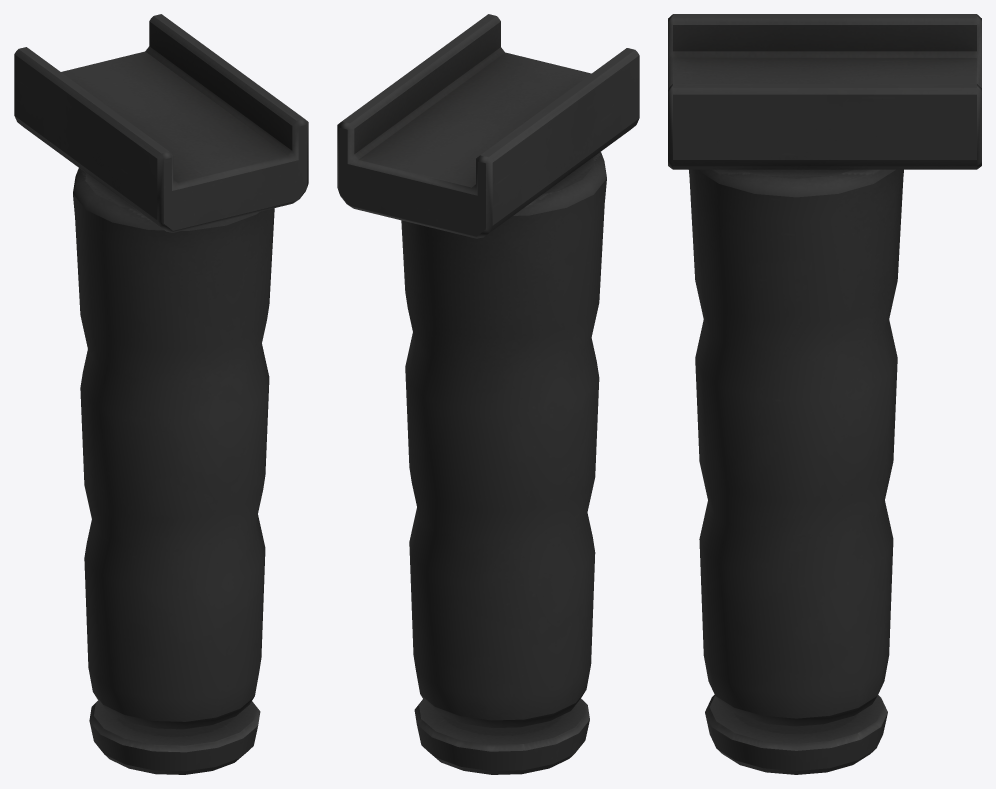
File: foregrip.glb
3 views of the same model, side by side, from view 1: azimuth 30°, elevation 25°; view 2: azimuth 150°, elevation 25°; view 3: azimuth 270°, elevation 25° (orthographic). The views are drawn at different scales.
Visible parts, largest first — view 1: foregrip; view 2: foregrip; view 3: foregrip.
Part boxes in pixels (<box>): foregrip: <box>14,14,308,774</box>; foregrip: <box>337,14,639,774</box>; foregrip: <box>668,14,981,774</box>.
Bounding box in the file's own units: 0.0307 × 0.1075 × 0.044.
Materials: 1 (1 with a texture image).
